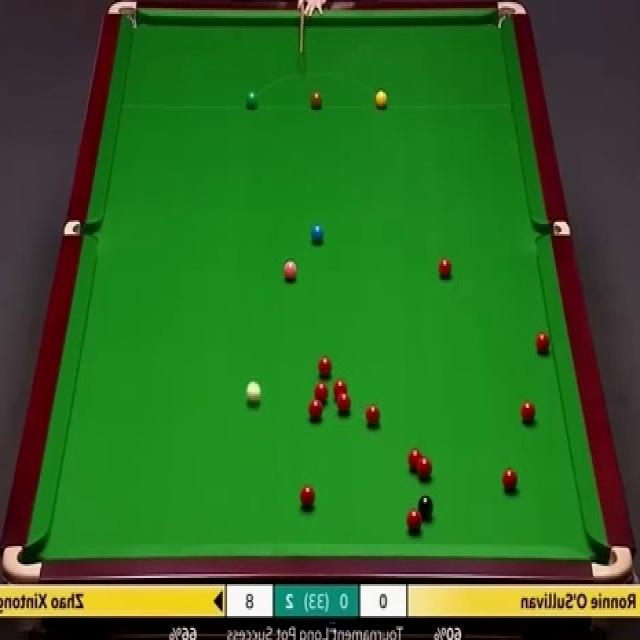black-ball: (416, 492, 434, 524)
blue-ball: (308, 222, 324, 247)
brown-ball: (309, 91, 323, 111)
green-ball: (246, 90, 260, 112)
pink-ball: (280, 256, 299, 284)
red-ball: (404, 510, 423, 537), (520, 398, 537, 426), (415, 457, 434, 482), (316, 354, 334, 380), (534, 330, 552, 356), (502, 467, 518, 493), (300, 485, 315, 510), (364, 404, 380, 427), (336, 393, 352, 416), (437, 256, 452, 280), (332, 379, 349, 400), (406, 448, 422, 470), (308, 398, 323, 420), (310, 384, 326, 402)
white-ball: (246, 381, 262, 407)
yellow-ball: (374, 90, 388, 110)
